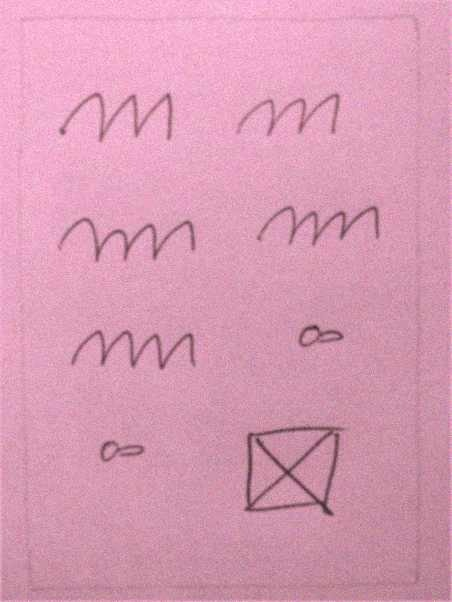image: (238, 418, 349, 524)
switch: (83, 427, 153, 471), (284, 318, 360, 358)
text: (48, 214, 210, 276), (50, 82, 191, 153), (62, 319, 211, 382), (225, 81, 343, 150), (251, 198, 384, 256)
